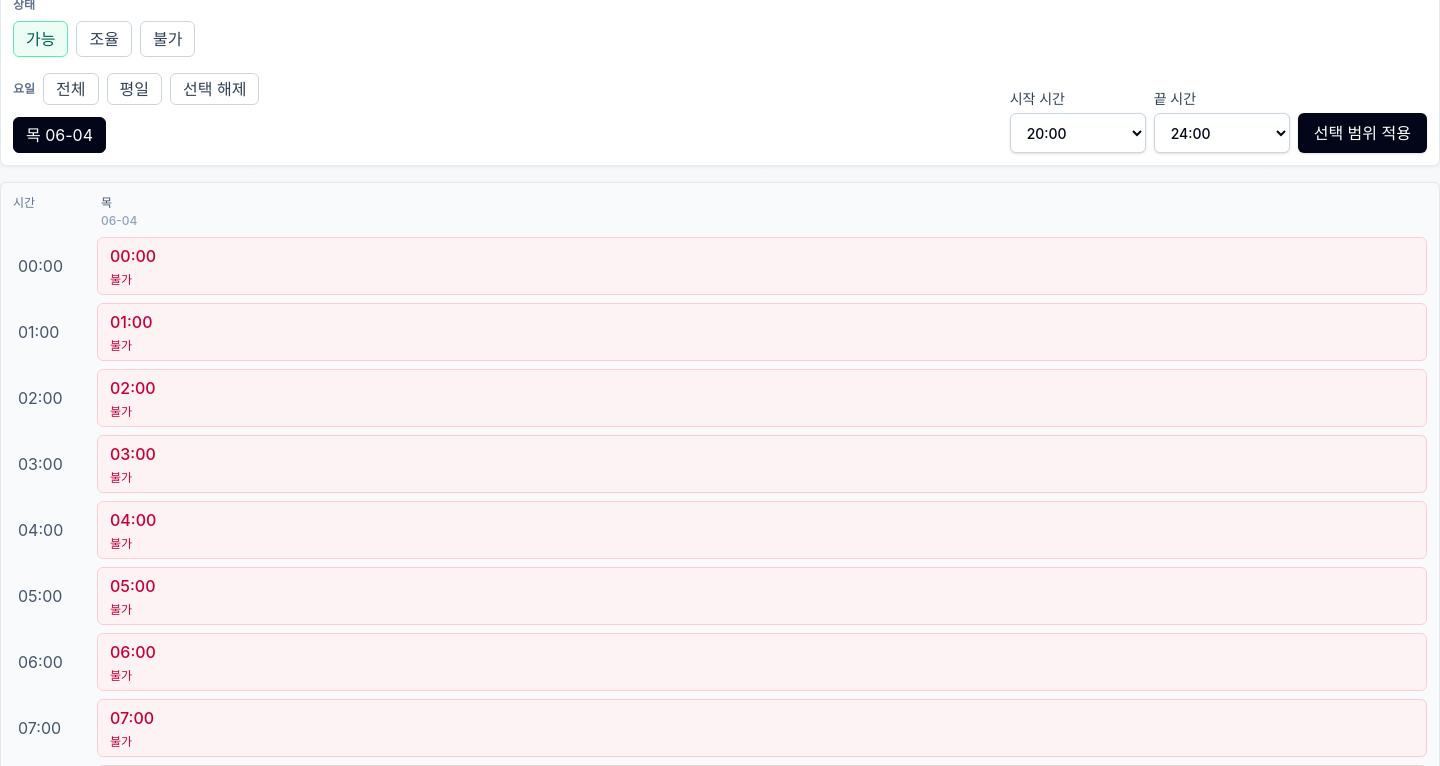
Test: AvailabilityGrid › clears a selected time cell back to default unavailable
The image size is (1440, 766).
What coordinates should you click on to do the following:
click the button "불가"
I would click on:
 (168, 39)
Its box is [140,21,195,57].
(page scrolled)
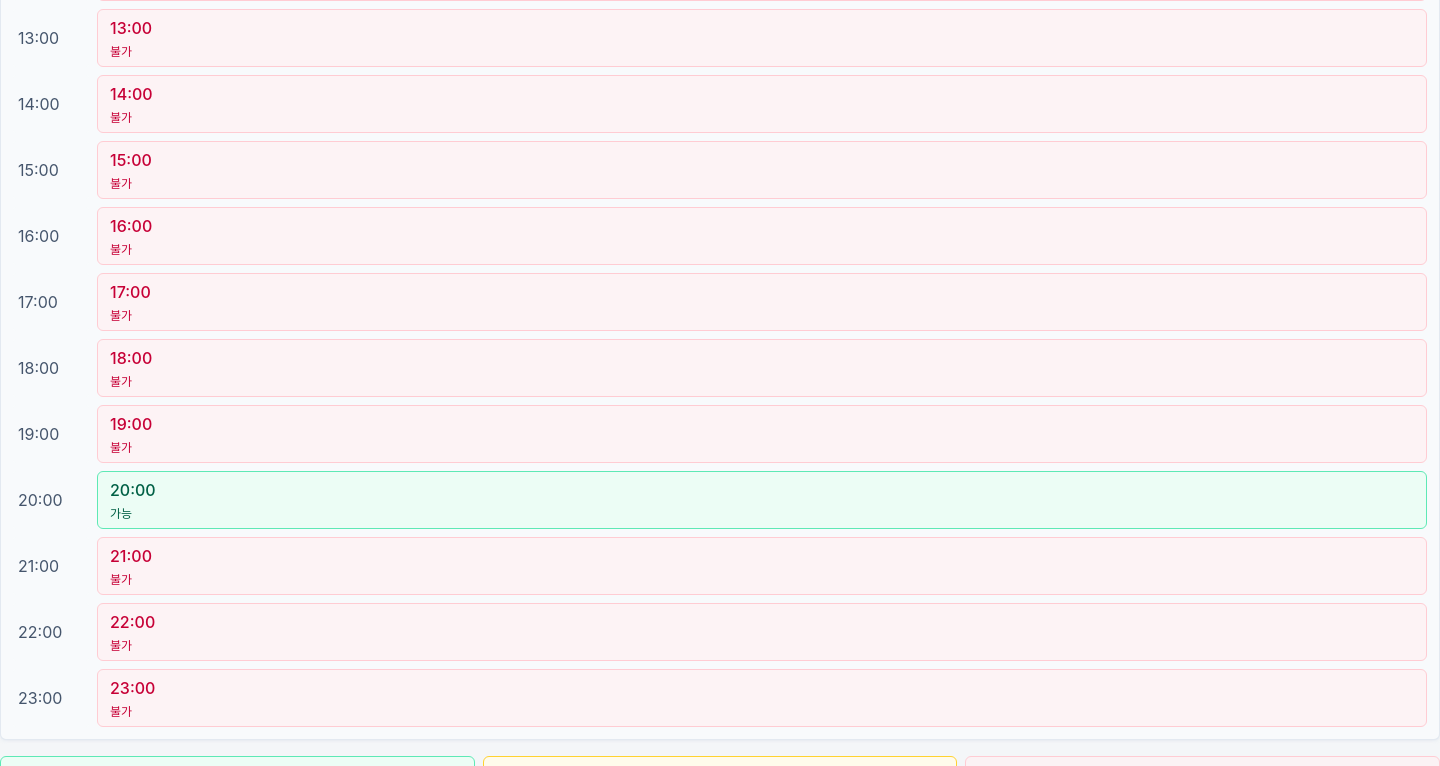
What coordinates should you click on to do the following:
click the button "20:00 가능"
I would click on:
 (133, 490)
Its box is [97,471,1427,529].
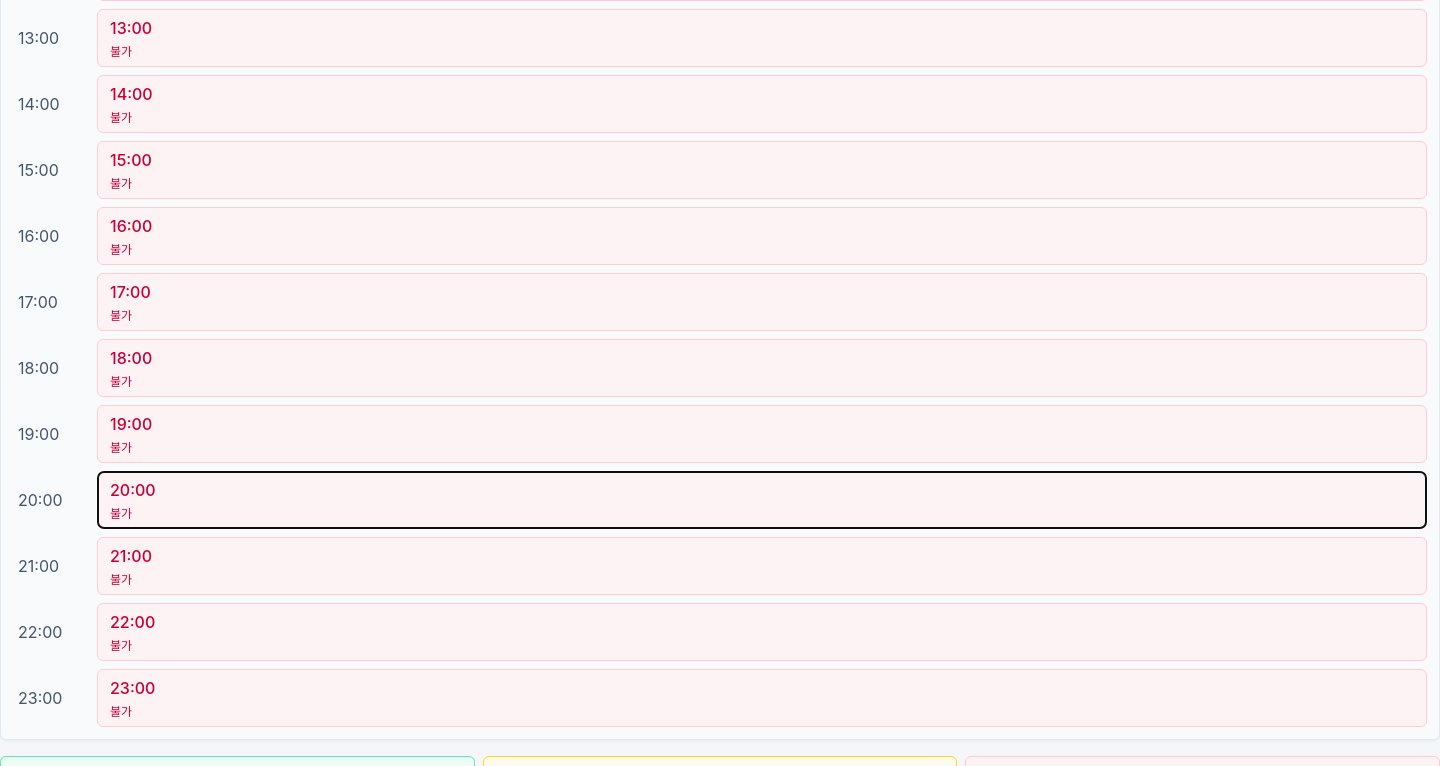
Expected: the button "20:00 불가" is shown, [97,471,1427,529]
